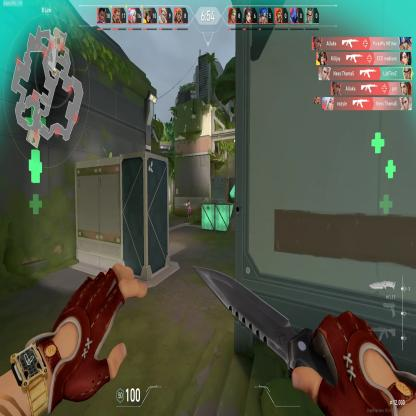enemy: (185, 199, 191, 217)
